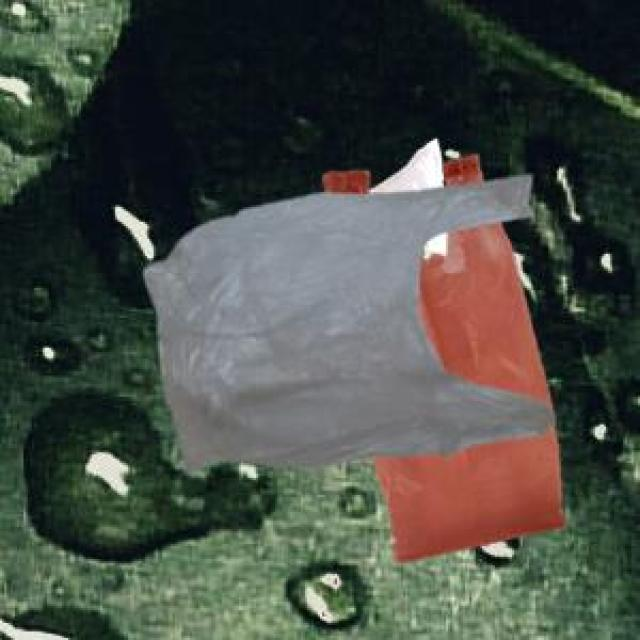plastic: (102, 126, 592, 589)
